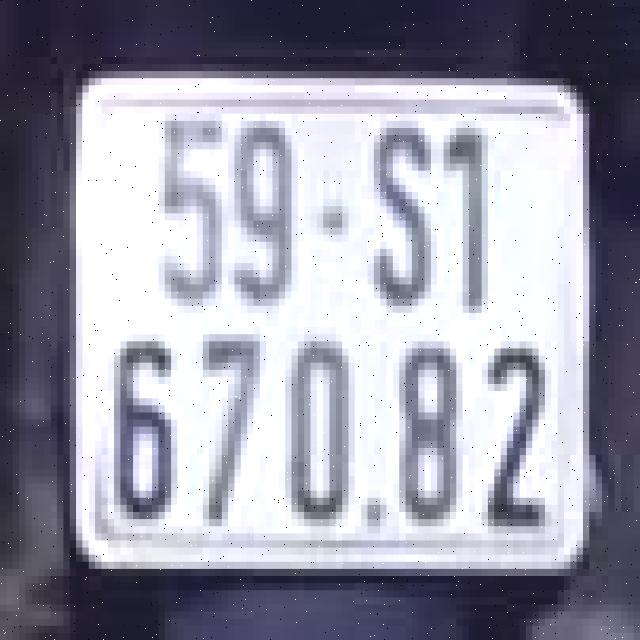0: (282, 323, 358, 537)
1: (437, 107, 494, 320)
2: (482, 334, 551, 534)
5: (149, 110, 225, 310)
6: (98, 320, 181, 526)
7: (187, 324, 269, 544)
8: (390, 334, 472, 534)
9: (231, 118, 301, 316)
S: (368, 103, 443, 309)
